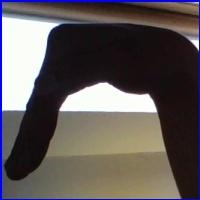A: (6, 20, 181, 179)
